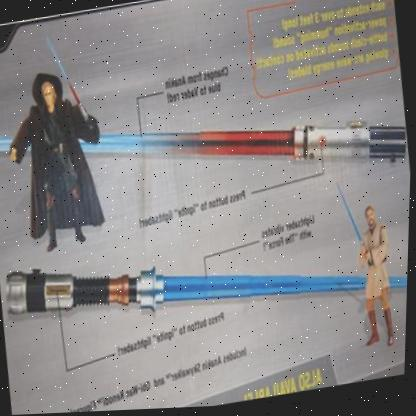lightsaber: (1, 208, 409, 354)
sith_lightsaber: (0, 33, 412, 233)
